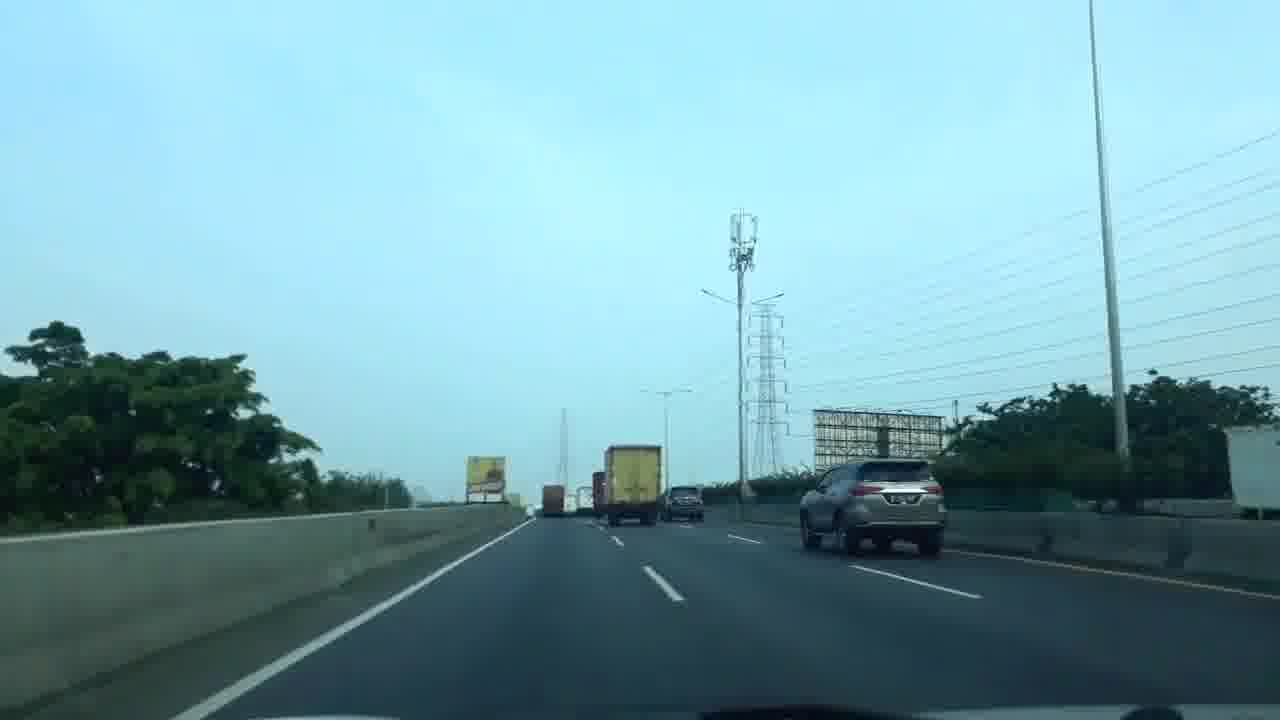plate_positive: (890, 495, 919, 505)
